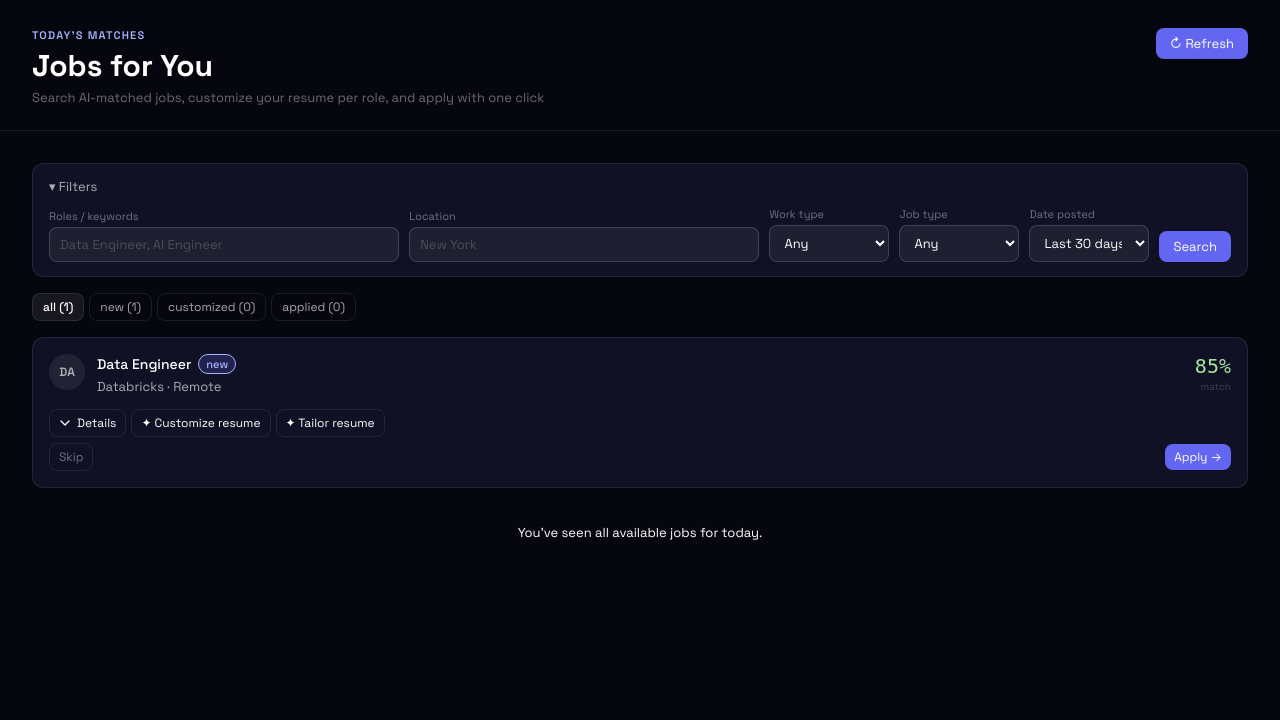
Test: TailorModal › renders gap analysis, rewrites, and keywords on success
Click the button "✦ Tailor resume" at (330, 423), box [276,409,385,437]
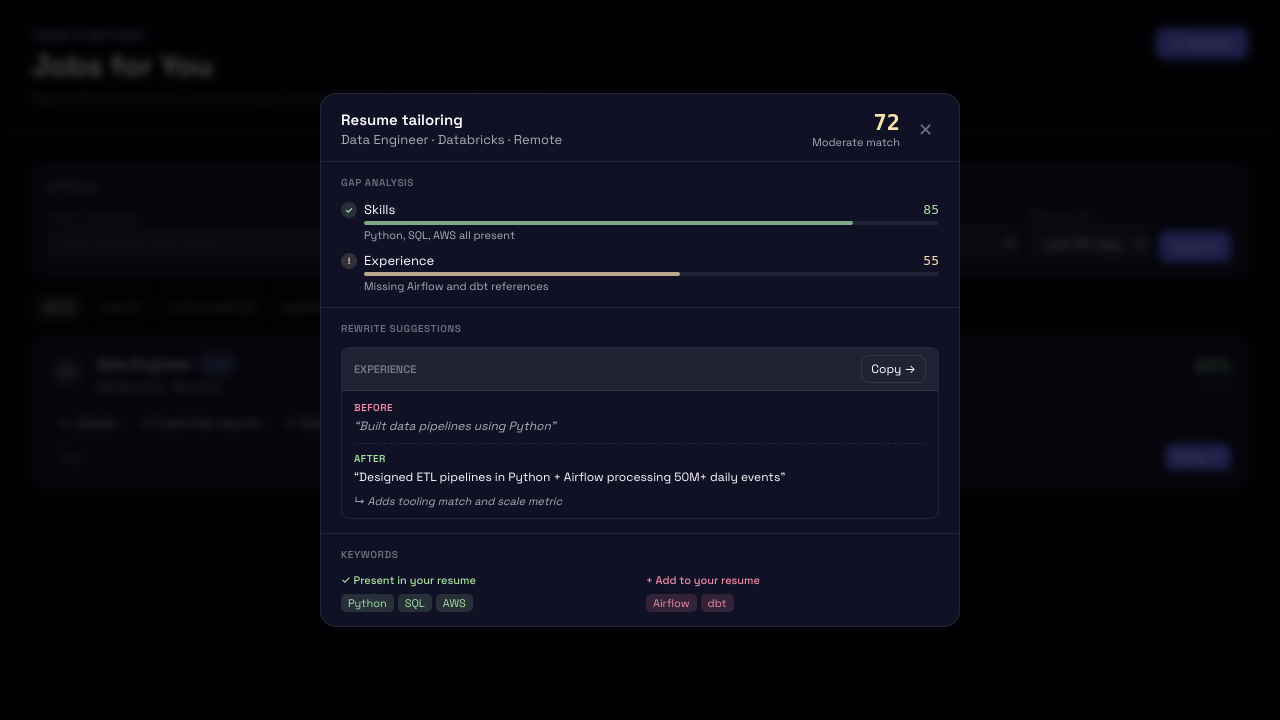
Expected: the text "Gap Analysis" is shown, [341,176,414,189]
Expected: the text "Rewrite Suggestions" is shown, [341,322,462,335]
Expected: the text "Keywords" is shown, [341,548,398,561]
